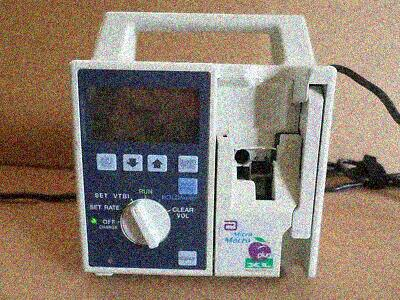plumxl1: (69, 11, 339, 288)
